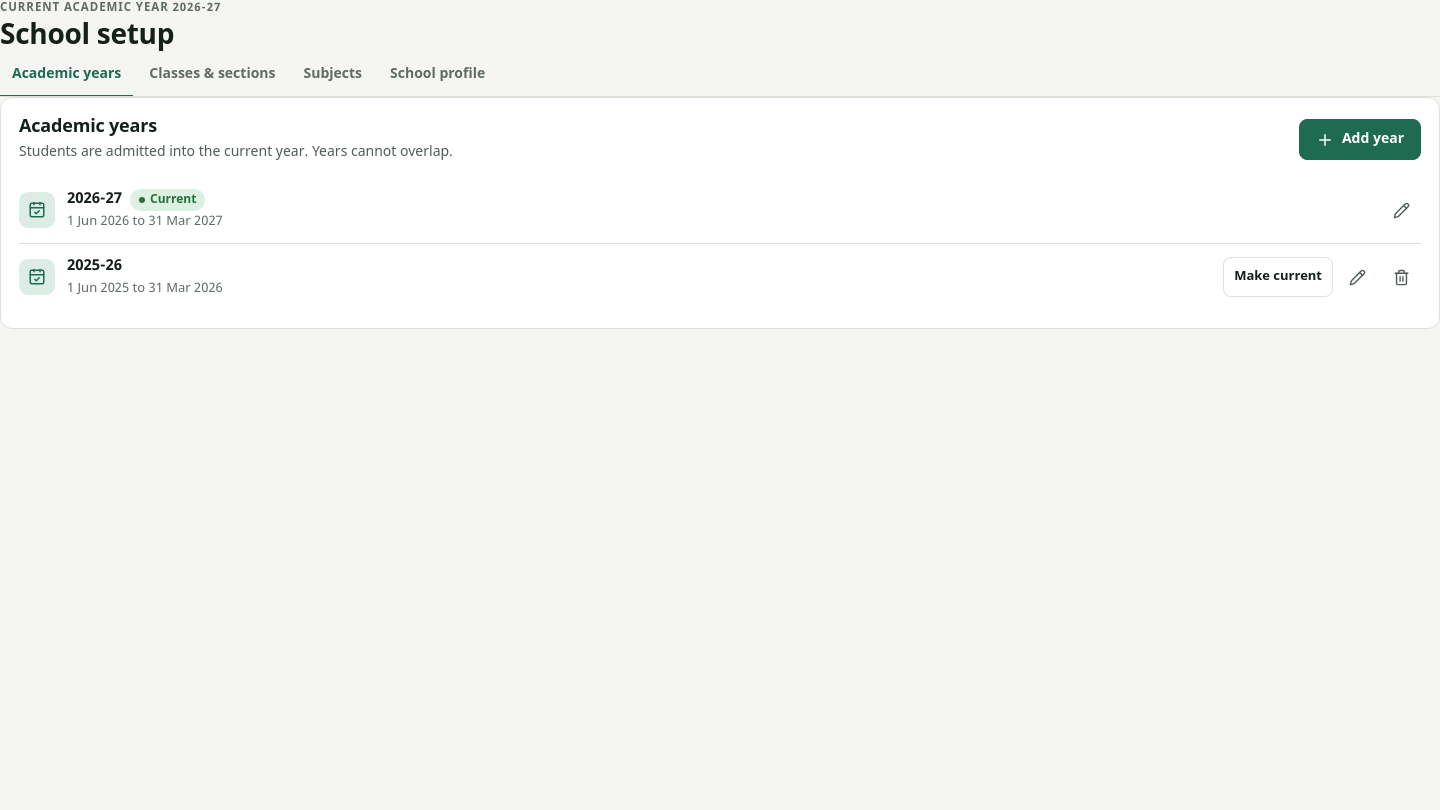
SetupView › deletes a past year after confirming
The width and height of the screenshot is (1440, 810).
Expected: the list with test id "years-list" is shown, x1=19 y1=177 x2=1421 y2=310
Click the button named "Delete 2025-26" at [1401, 277], box x1=1381 y1=257 x2=1421 y2=297
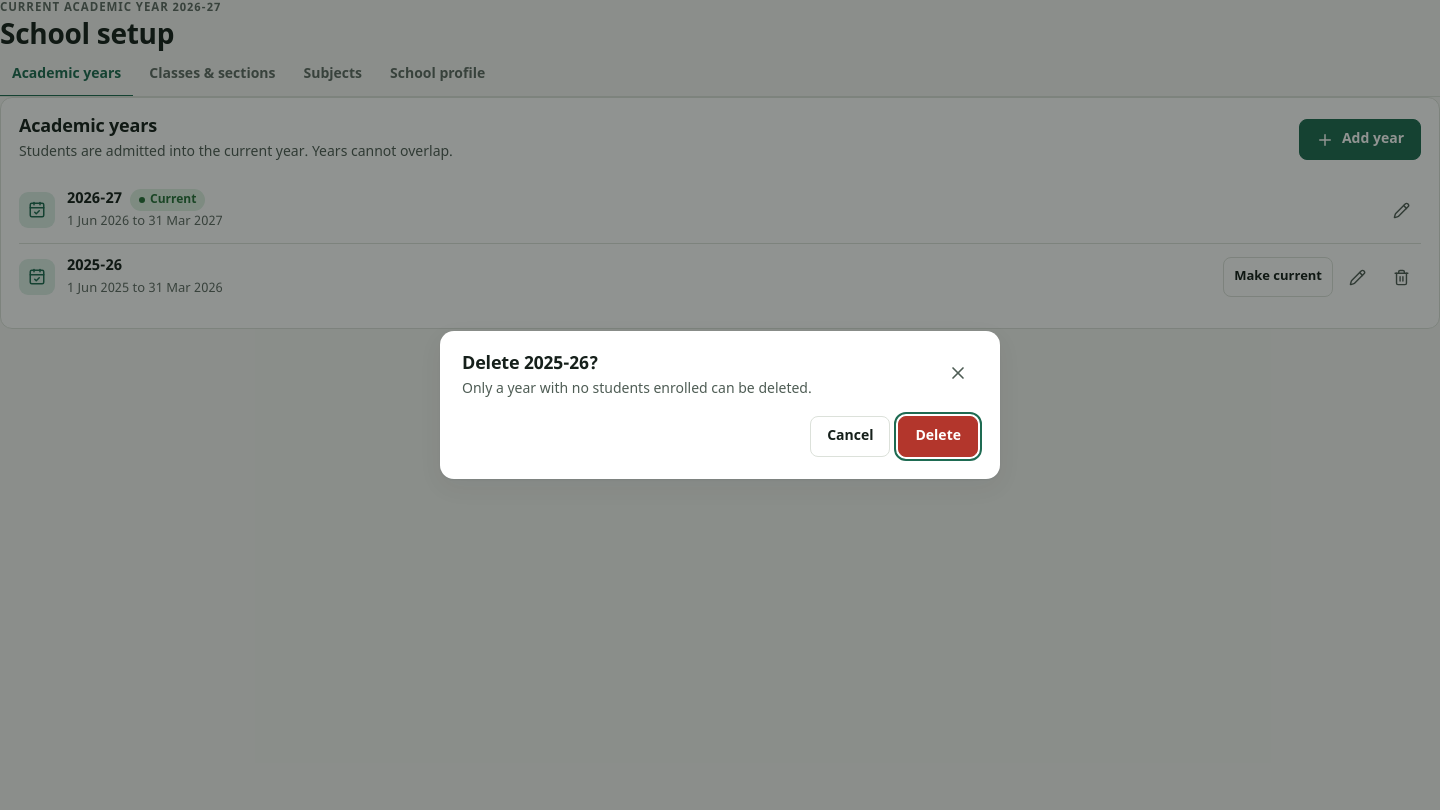
Click the button "Delete" at [938, 437], box x1=898 y1=416 x2=978 y2=457
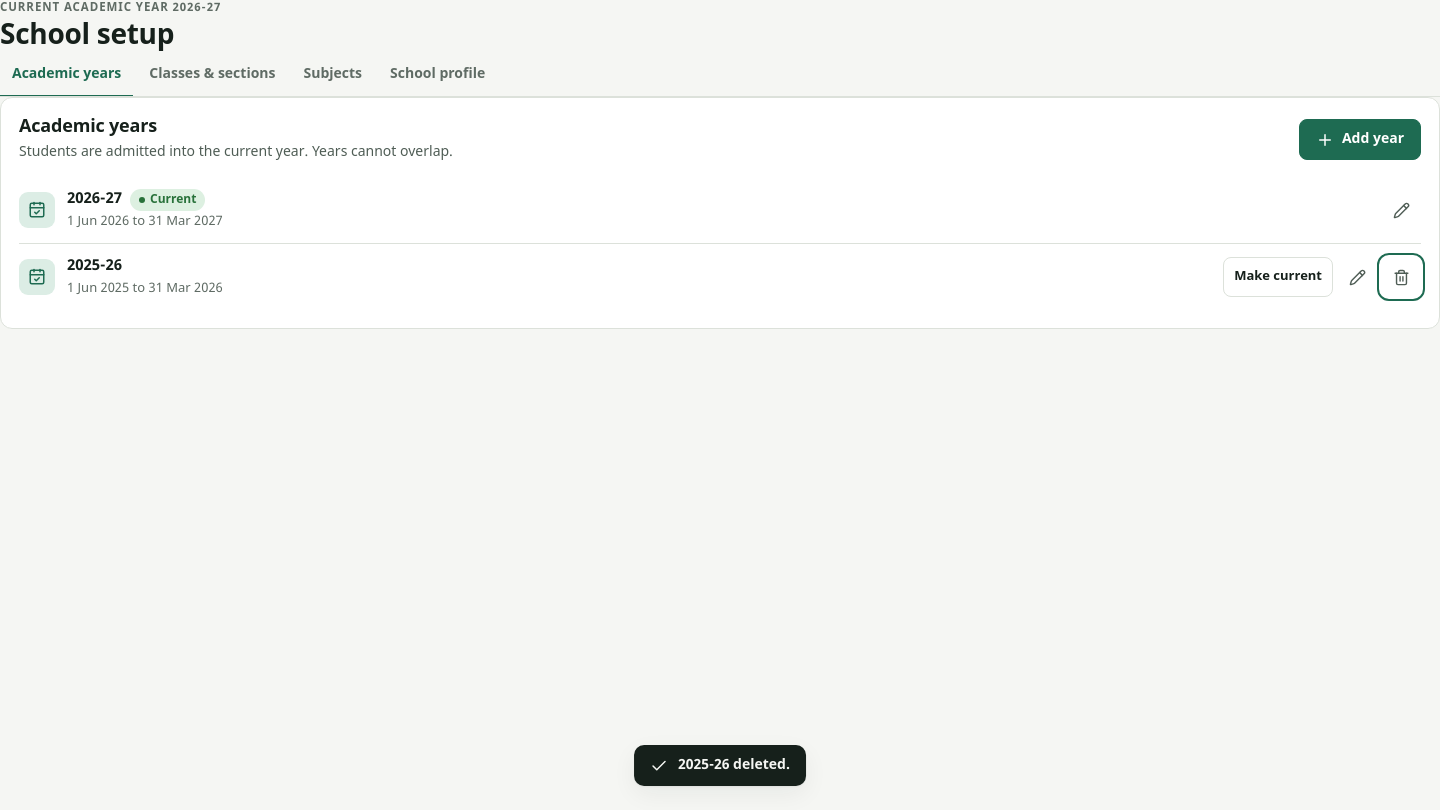
Now the text "2025-26 deleted." is shown, box x1=634 y1=745 x2=806 y2=786
